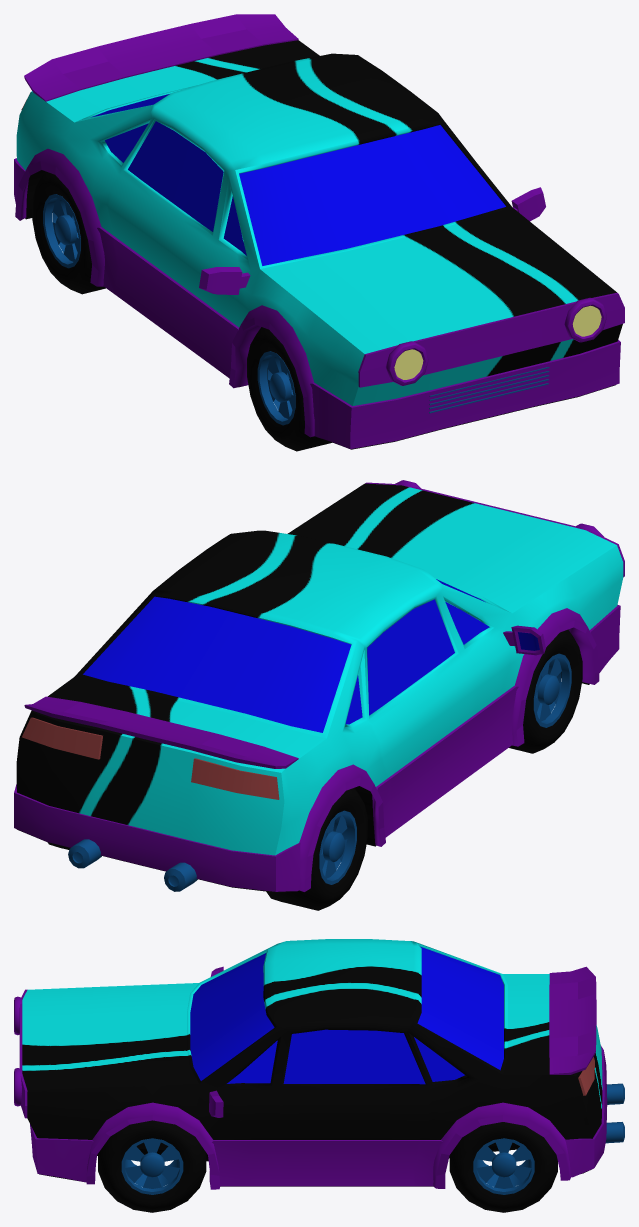
Rendered from Muscle Evolution2 Purple WaveBlackCyan Blue BlueGrey.glb.
The picture shows the model from 3 angles, top to bottom: view 1: azimuth 30°, elevation 25°; view 2: azimuth 150°, elevation 25°; view 3: azimuth 270°, elevation 25°; orthographic projection. The views are drawn at different scales.
Parts seen in each view (by area): view 1: evo2_body2_f1_dupl, evo2_frontGlass_f1_dupl, evo2_sill2_f1_dupl, evo2_spoiler2_f1_dupl, evo2_front_square2_f1_dupl, evo2_glasseBigR_f1_dupl, evo2_mudguardFR_f1_dupl, evo2_mudguardbR_f1_dupl, evo2_tire_rf1_f1_dupl, evo2_tire_rf_f1_dupl, evo2_rim_A_rf_f1_dupl, evo2_rim_A_rb_f1_dupl (+9 smaller); view 2: evo2_body2_f1_dupl, evo2_BackGlassGlass_f1_dupl, evo2_sill2_f1_dupl, evo2_spoiler2_f1_dupl, evo2_glasseBigR_f1_dupl, evo2_tire_rf_f1_dupl, evo2_mudguardbR_f1_dupl, evo2_mudguardFR_f1_dupl, evo2_tire_rf1_f1_dupl, evo2_rim_A_rf_f1_dupl, evo2_rim_A_rb_f1_dupl, evo2_redlightR2_f1_dupl (+5 smaller); view 3: evo2_body2_f1_dupl, evo2_sill2_f1_dupl, evo2_BackGlassGlass_f1_dupl, evo2_glasseBigL_f1_dupl, evo2_frontGlass_f1_dupl, evo2_tire_lf_f1_dupl, evo2_tire_lb_f1_dupl, evo2_spoiler2_f1_dupl, evo2_mudguardBL_f1_dupl, evo2_mudguardFL_f1_dupl, evo2_rim_A_lf_f1_dupl, evo2_rim_A_lb_f1_dupl (+4 smaller).
Part boxes in pixels (bbox=[...]): evo2_body2_f1_dupl: bbox=[16, 40, 622, 405]; evo2_frontGlass_f1_dupl: bbox=[239, 125, 505, 265]; evo2_sill2_f1_dupl: bbox=[14, 158, 620, 449]; evo2_spoiler2_f1_dupl: bbox=[24, 14, 298, 101]; evo2_front_square2_f1_dupl: bbox=[358, 292, 624, 387]; evo2_glasseBigR_f1_dupl: bbox=[128, 121, 223, 231]; evo2_mudguardFR_f1_dupl: bbox=[229, 305, 314, 437]; evo2_mudguardbR_f1_dupl: bbox=[15, 148, 104, 286]; evo2_tire_rf1_f1_dupl: bbox=[247, 327, 331, 451]; evo2_tire_rf_f1_dupl: bbox=[32, 171, 105, 294]; evo2_rim_A_rf_f1_dupl: bbox=[257, 351, 295, 425]; evo2_rim_A_rb_f1_dupl: bbox=[43, 194, 80, 268]; evo2_body2_f1_dupl: bbox=[16, 483, 623, 855]; evo2_BackGlassGlass_f1_dupl: bbox=[83, 596, 351, 732]; evo2_sill2_f1_dupl: bbox=[14, 605, 620, 891]; evo2_spoiler2_f1_dupl: bbox=[24, 696, 298, 768]; evo2_glasseBigR_f1_dupl: bbox=[367, 599, 454, 715]; evo2_tire_rf_f1_dupl: bbox=[266, 787, 367, 910]; evo2_mudguardbR_f1_dupl: bbox=[299, 764, 385, 891]; evo2_mudguardFR_f1_dupl: bbox=[512, 608, 599, 746]; evo2_tire_rf1_f1_dupl: bbox=[509, 629, 582, 753]; evo2_rim_A_rf_f1_dupl: bbox=[533, 653, 571, 727]; evo2_rim_A_rb_f1_dupl: bbox=[319, 810, 356, 884]; evo2_redlightR2_f1_dupl: bbox=[191, 758, 279, 799]; evo2_body2_f1_dupl: bbox=[22, 939, 602, 1159]; evo2_sill2_f1_dupl: bbox=[30, 1045, 607, 1186]; evo2_BackGlassGlass_f1_dupl: bbox=[417, 946, 503, 1070]; evo2_glasseBigL_f1_dupl: bbox=[283, 1029, 425, 1084]; evo2_frontGlass_f1_dupl: bbox=[190, 953, 274, 1080]; evo2_tire_lf_f1_dupl: bbox=[98, 1120, 206, 1212]; evo2_tire_lb_f1_dupl: bbox=[449, 1122, 557, 1212]; evo2_spoiler2_f1_dupl: bbox=[549, 966, 596, 1074]; evo2_mudguardBL_f1_dupl: bbox=[433, 1102, 570, 1188]; evo2_mudguardFL_f1_dupl: bbox=[86, 1102, 220, 1189]; evo2_rim_A_lf_f1_dupl: bbox=[121, 1138, 183, 1194]; evo2_rim_A_lb_f1_dupl: bbox=[473, 1138, 534, 1194].
Bounding box in the file's own units: 177 × 112 × 331.
7 materials, 1 textured.
